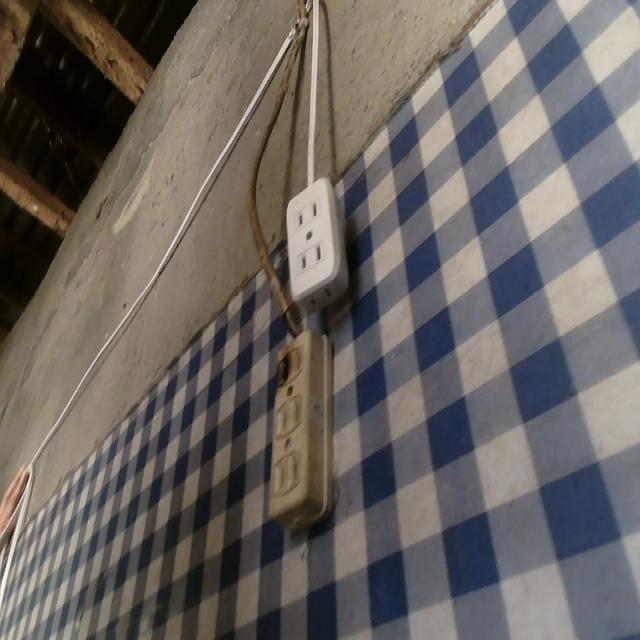-: (271, 348, 291, 389)
